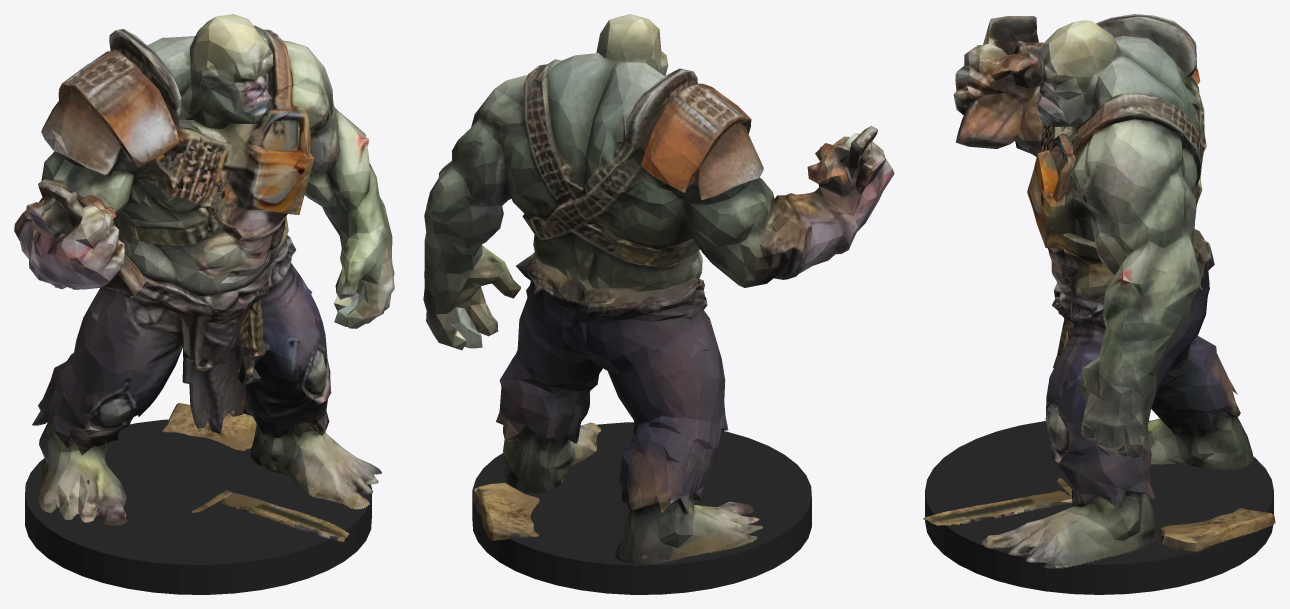
File: super-mutant.glb
The picture shows the model from 3 angles, left to right: view 1: azimuth 30°, elevation 25°; view 2: azimuth 150°, elevation 25°; view 3: azimuth 270°, elevation 25°; orthographic projection. The views are drawn at different scales.
Visible parts, largest first — view 1: figure, base; view 2: figure, base; view 3: figure, base.
Part boxes in pixels (left/top/right/bottom): figure: left=14, top=14, right=394, bottom=541; base: left=25, top=419, right=371, bottom=594; figure: left=423, top=14, right=894, bottom=564; base: left=472, top=422, right=811, bottom=594; figure: left=923, top=14, right=1275, bottom=568; base: left=925, top=420, right=1273, bottom=594.
Bounding box in the file's own units: 1.71 × 2.02 × 1.27.
Materials: 2 (1 with a texture image).
